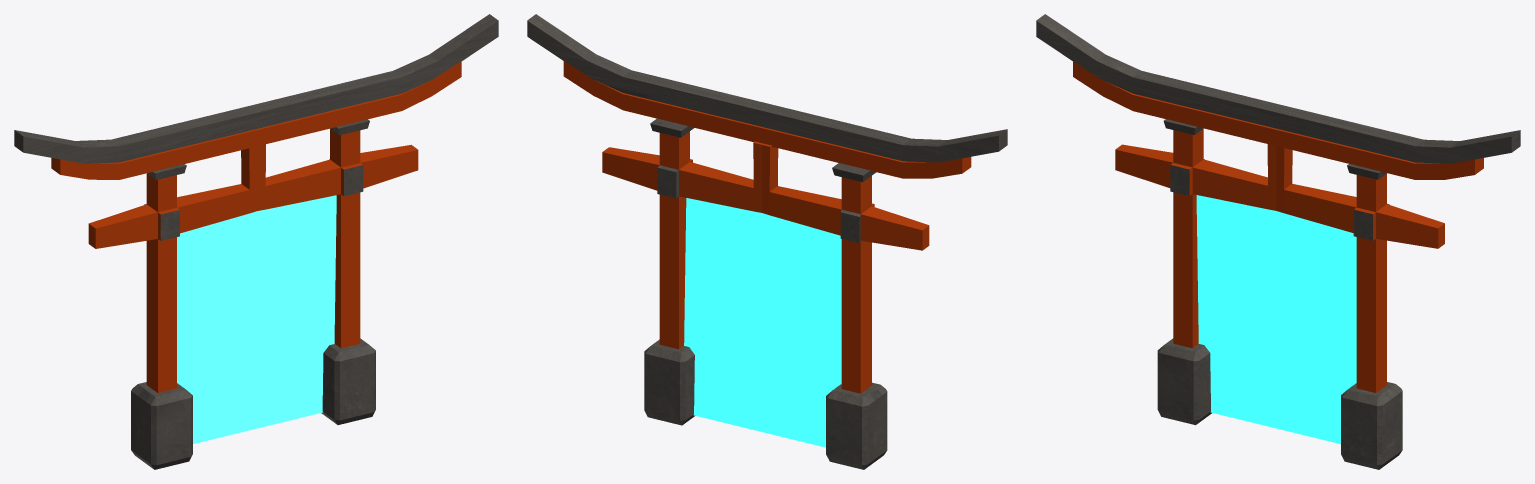
Rendered from portal2.glb.
3 views of the same model, side by side, from view 1: azimuth 30°, elevation 25°; view 2: azimuth 150°, elevation 25°; view 3: azimuth 330°, elevation 25° (orthographic).
Parts seen in each view (by area): view 1: holo, Gates, roof, underRoof; view 2: holo, Gates, roof, underRoof; view 3: holo, Gates, roof, underRoof.
Boxes of the visible parts, x1=… form: holo: x1=177, y1=195, x2=336, y2=443; Gates: x1=88, y1=119, x2=418, y2=469; roof: x1=14, y1=14, x2=498, y2=163; underRoof: x1=51, y1=61, x2=461, y2=179; holo: x1=684, y1=198, x2=841, y2=447; Gates: x1=602, y1=118, x2=929, y2=469; roof: x1=527, y1=14, x2=1007, y2=162; underRoof: x1=563, y1=60, x2=971, y2=178; holo: x1=1196, y1=195, x2=1356, y2=444; Gates: x1=1115, y1=119, x2=1444, y2=469; roof: x1=1036, y1=14, x2=1520, y2=163; underRoof: x1=1073, y1=61, x2=1483, y2=179.
Bounding box in the file's own units: 8.05 × 5.87 × 0.71.
4 materials, 2 textured.
